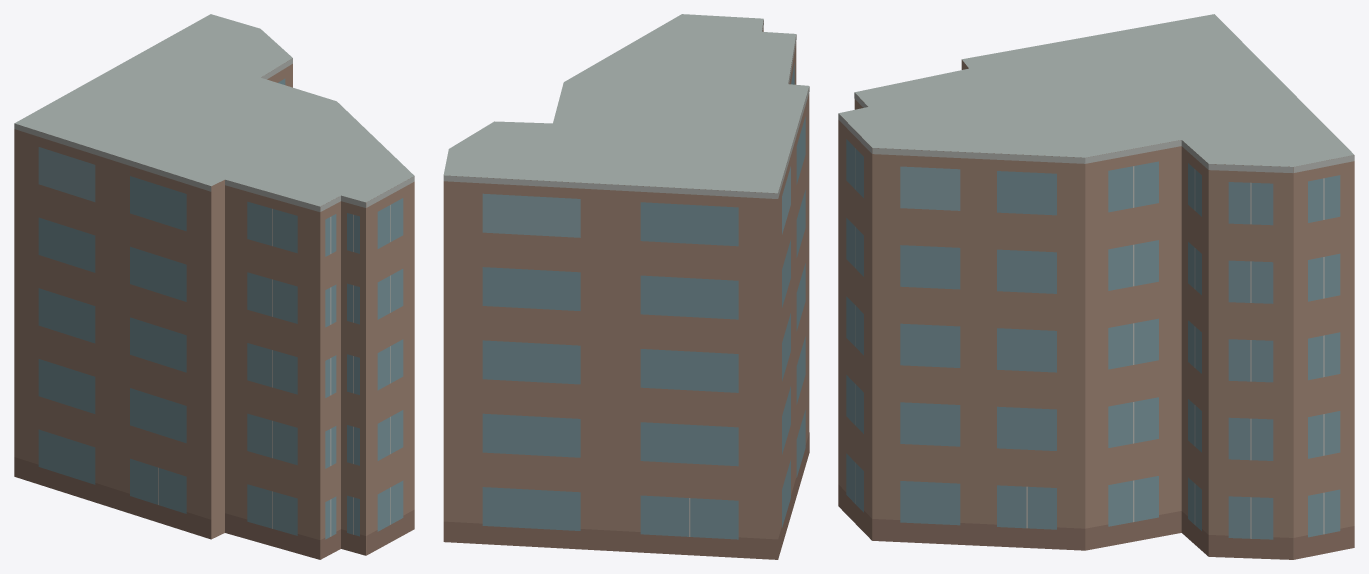
The model's file is survey-upis-32757876.glb.
3 renders of one model, left to right at view 1: azimuth 30°, elevation 25°; view 2: azimuth 150°, elevation 25°; view 3: azimuth 270°, elevation 25°, orthographic. The views are drawn at different scales.
Parts seen in each view (by area): view 1: survey-upis-32757876.tmp; view 2: survey-upis-32757876.tmp; view 3: survey-upis-32757876.tmp.
Boxes of the visible parts, bbox=[...] form: survey-upis-32757876.tmp: bbox=[14, 14, 414, 559]; survey-upis-32757876.tmp: bbox=[443, 14, 809, 559]; survey-upis-32757876.tmp: bbox=[838, 14, 1354, 559].
Size of the model in its own units: 12.78 by 15.3 by 18.22.
